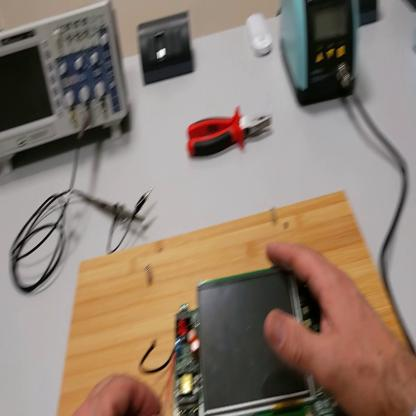hand: (262, 236, 410, 416), (77, 372, 163, 414)
low voltage board: (134, 269, 338, 416)
oscilloscope: (1, 3, 132, 178)
oscilloscope probe tip: (83, 194, 145, 222)
pliers: (189, 102, 272, 162)
socket: (360, 2, 383, 27), (406, 3, 416, 15)
welder station: (282, 3, 362, 107)
working area: (58, 188, 416, 416)
